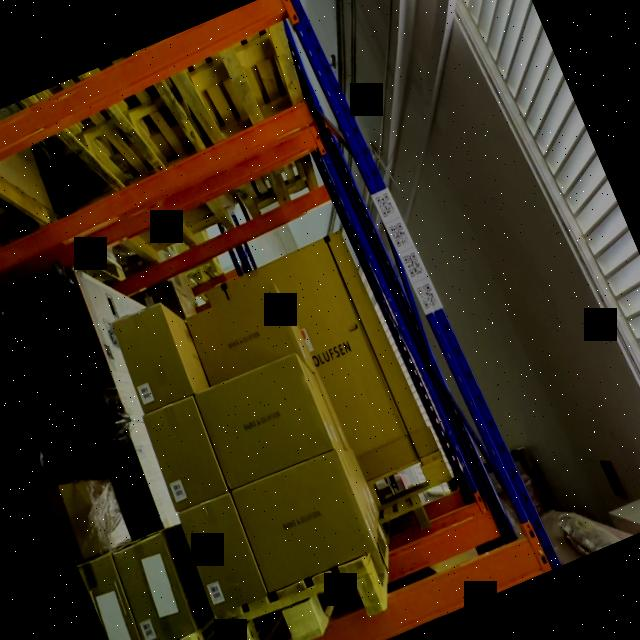box: (229, 444, 372, 586), (196, 348, 335, 488), (172, 494, 266, 610), (186, 285, 297, 380), (140, 398, 228, 510), (110, 533, 201, 640), (109, 302, 195, 410)
